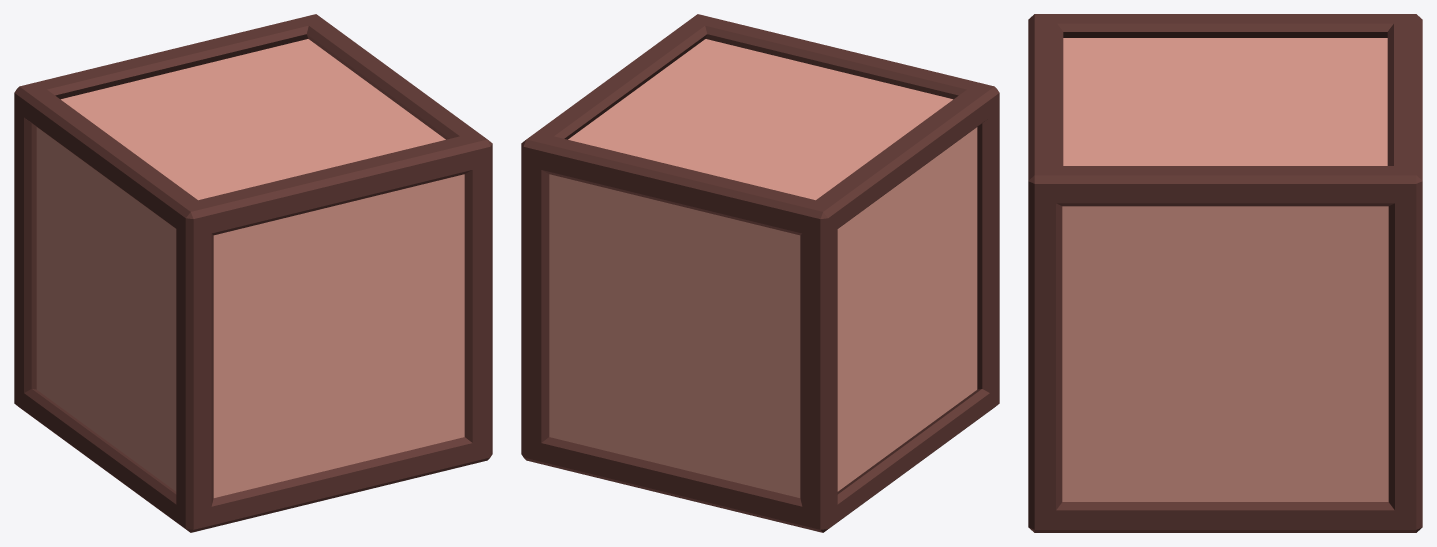
Rendered from Wooden Box.fbx.
The picture shows the model from 3 angles, left to right: view 1: azimuth 30°, elevation 25°; view 2: azimuth 150°, elevation 25°; view 3: azimuth 270°, elevation 25°; orthographic projection. The views are drawn at different scales.
Parts seen in each view (by area): view 1: Cube.004; view 2: Cube.004; view 3: Cube.004.
Part boxes in pixels (x1,y1,x2,y2): Cube.004: (14,14,492,532); Cube.004: (521,14,999,532); Cube.004: (1028,14,1422,532).
Size of the model in its own units: 100 by 100 by 100.
